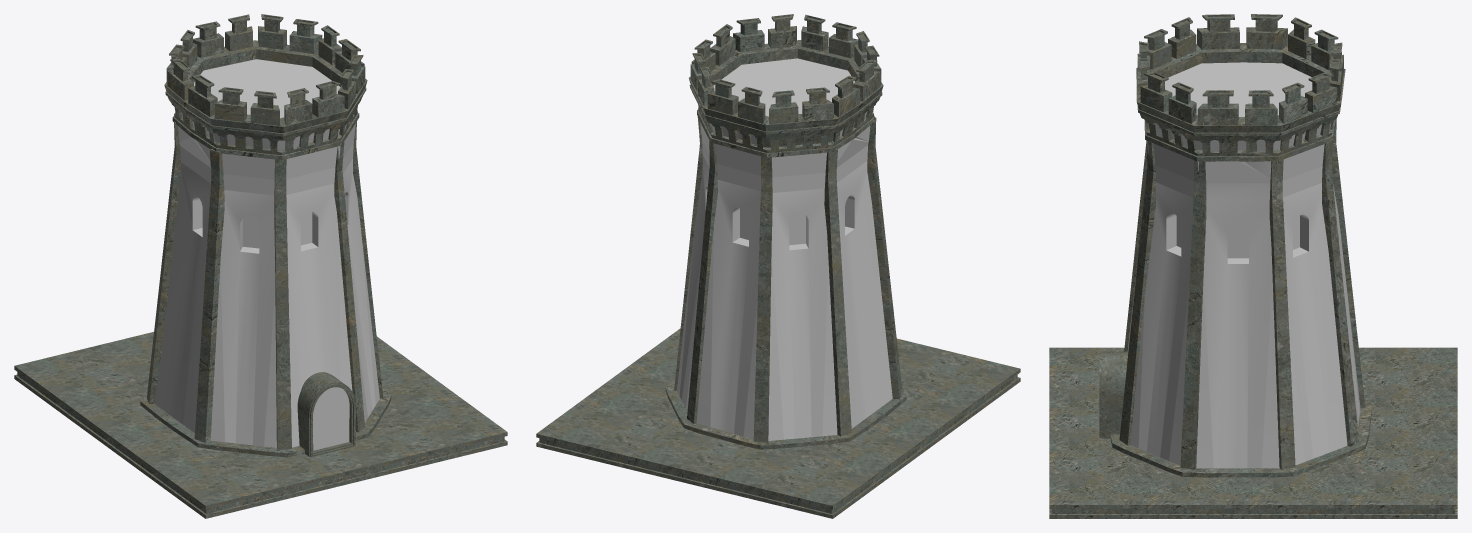
File: objTower.obj
3 renders of one model, left to right at view 1: azimuth 30°, elevation 25°; view 2: azimuth 150°, elevation 25°; view 3: azimuth 270°, elevation 25°, orthographic. The views are drawn at different scales.
Visible parts, largest first — view 1: tower5 tower_ccca_pCylinder22, floor tower5; view 2: tower5 tower_ccca_pCylinder22, floor tower5; view 3: tower5 tower_ccca_pCylinder22, floor tower5.
Boxes of the visible parts, x1,y1,x2,y2 form: tower5 tower_ccca_pCylinder22: (140, 14, 391, 457); floor tower5: (14, 332, 507, 518); tower5 tower_ccca_pCylinder22: (665, 14, 906, 449); floor tower5: (536, 328, 1020, 518); tower5 tower_ccca_pCylinder22: (1099, 14, 1371, 477); floor tower5: (1049, 347, 1457, 518).
Bounding box in the file's own units: 81.35 × 93 × 89.21.
